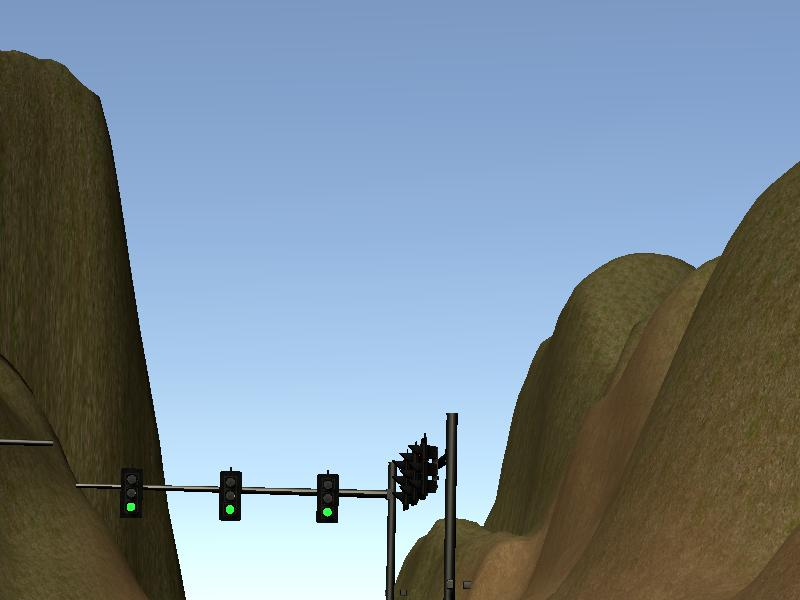Green: (219, 471, 240, 520), (120, 468, 141, 516), (318, 474, 336, 522)
